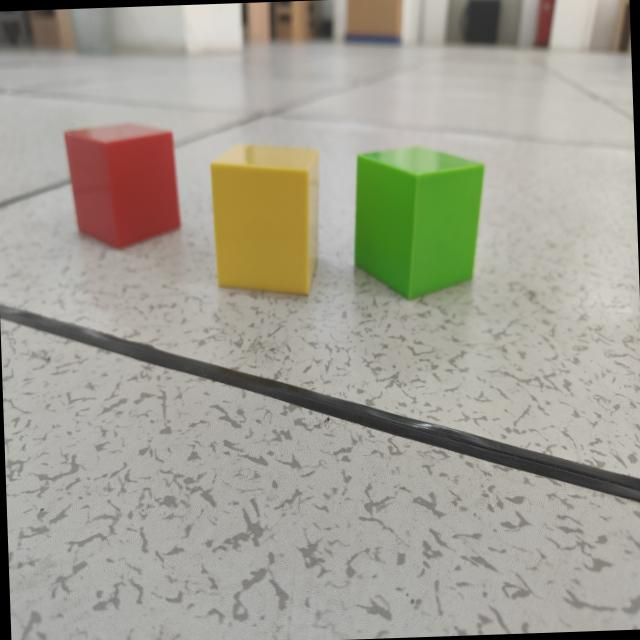green: (353, 147, 485, 301)
red: (63, 123, 182, 251)
yellow: (209, 146, 318, 297)
